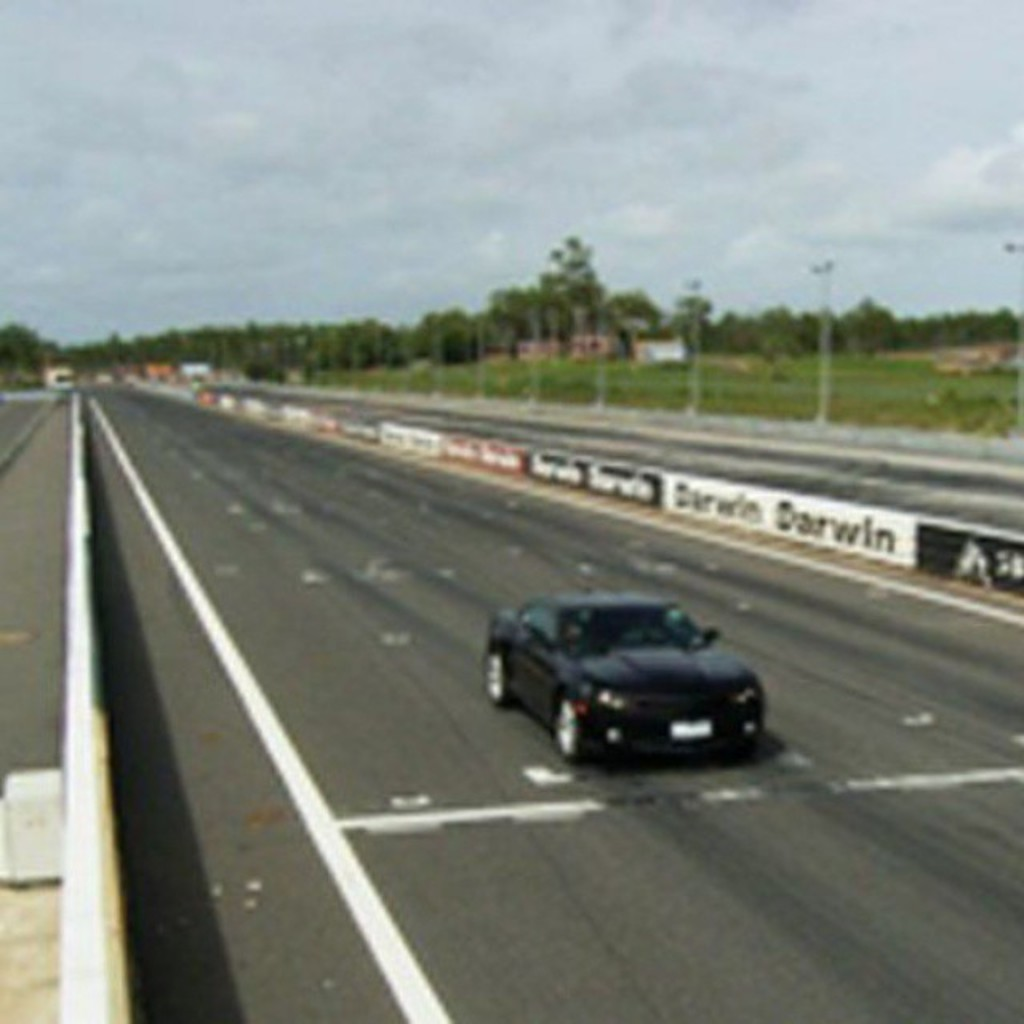Car: (473, 585, 771, 774)
